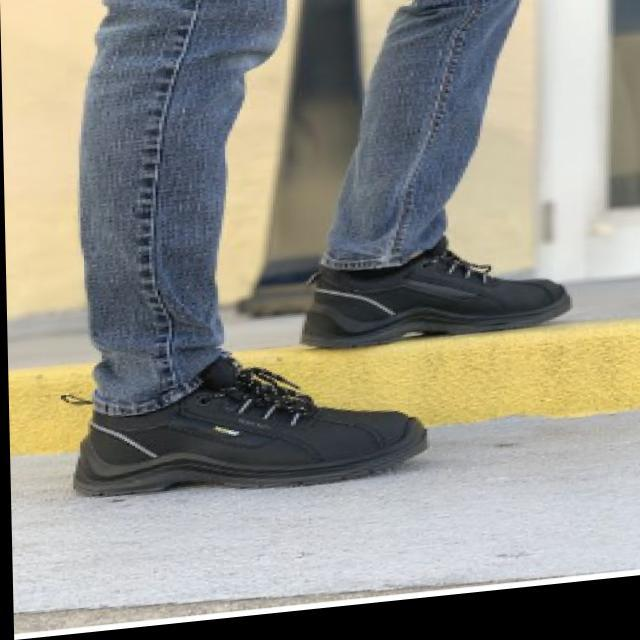boots: (61, 214, 584, 513)
